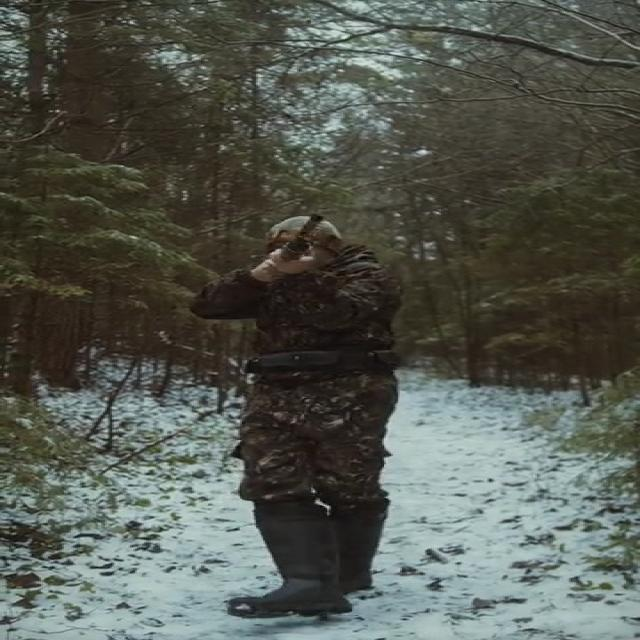Gun_Holder: (231, 212, 351, 290)
Person: (180, 211, 420, 615)
